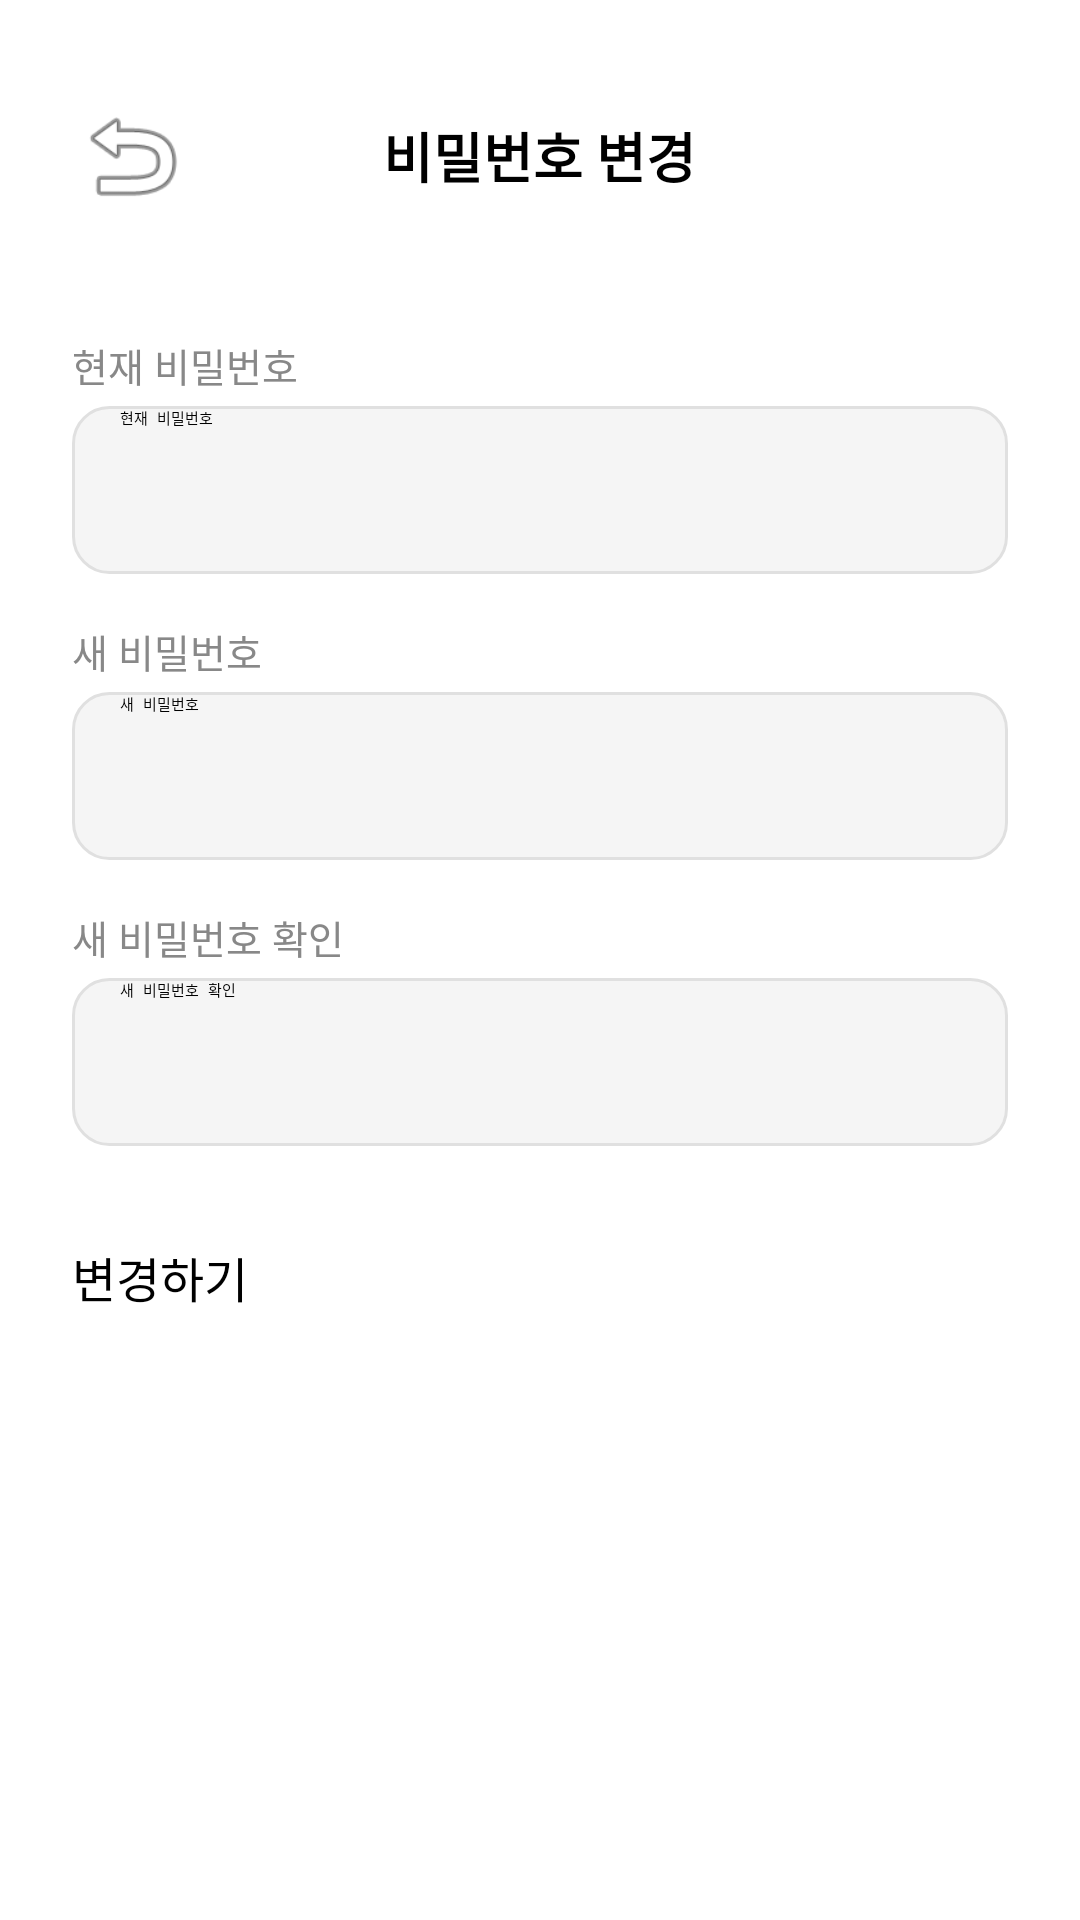

Where to tap for icons on this 1080w x 1920h app screen, as (x=x, y=y):
뒤로가기: (x=133, y=156)
